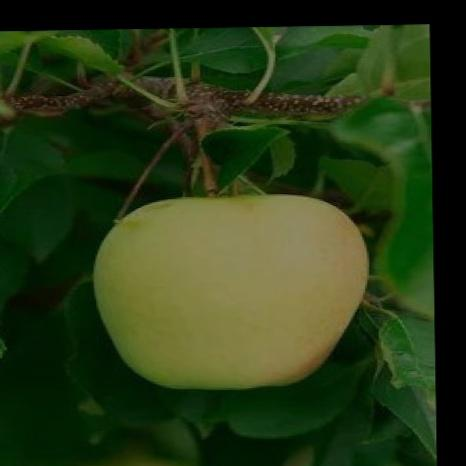green apple: (88, 192, 373, 391)
